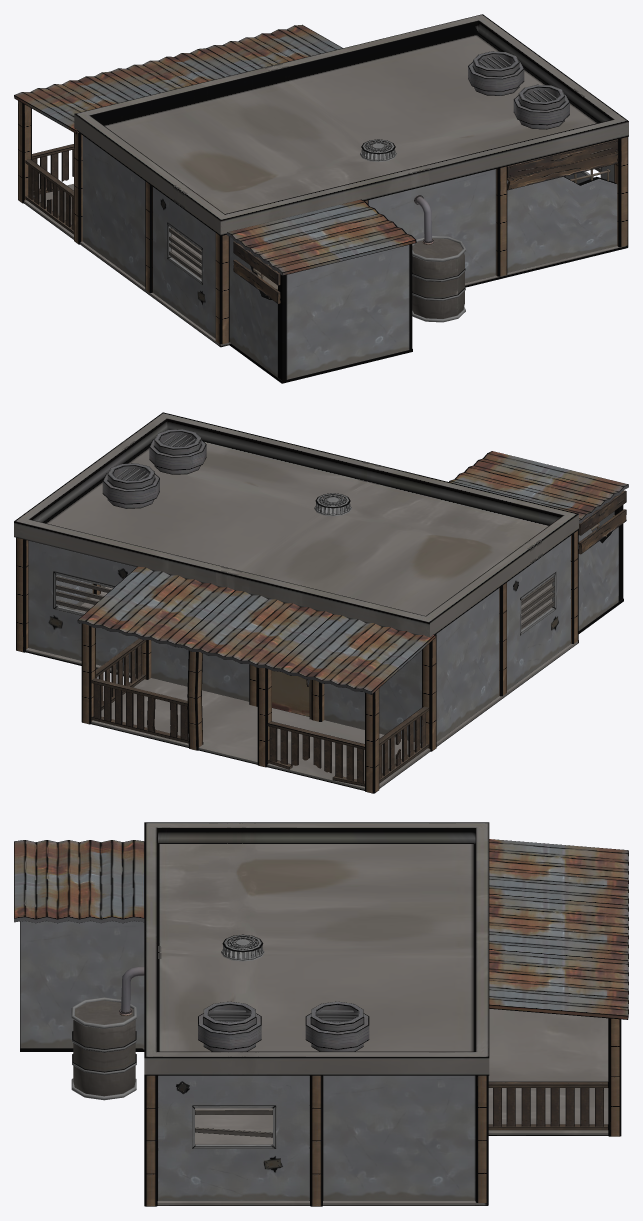
Rendered from residence_02.fbx.
3 renders of one model, top to bottom at view 1: azimuth 30°, elevation 25°; view 2: azimuth 150°, elevation 25°; view 3: azimuth 270°, elevation 25°, orthographic. The views are drawn at different scales.
Parts seen in each view (by area): view 1: residence_02; view 2: residence_02, Door; view 3: residence_02.
Boxes of the visible parts, box(x1,y1,x2,y2) form: residence_02: box(14, 14, 628, 383); residence_02: box(14, 412, 628, 793); Door: box(272, 670, 309, 716); residence_02: box(14, 822, 628, 1206).
Bounding box in the file's own units: 1011 × 328 × 1114.
Materials: 1 (1 with a texture image).
